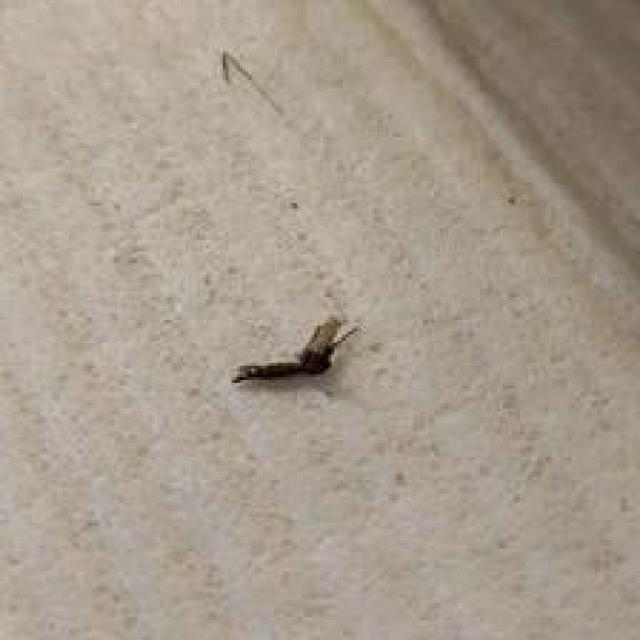Culex: (231, 314, 360, 386)
